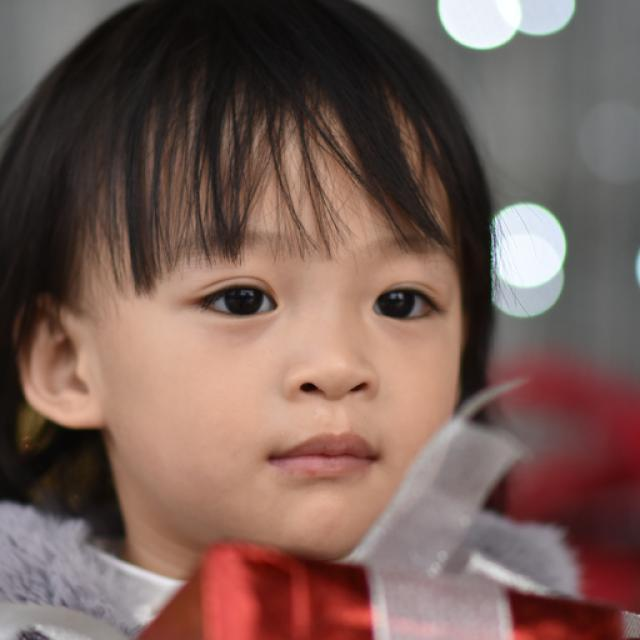neutral: (109, 153, 464, 556)
